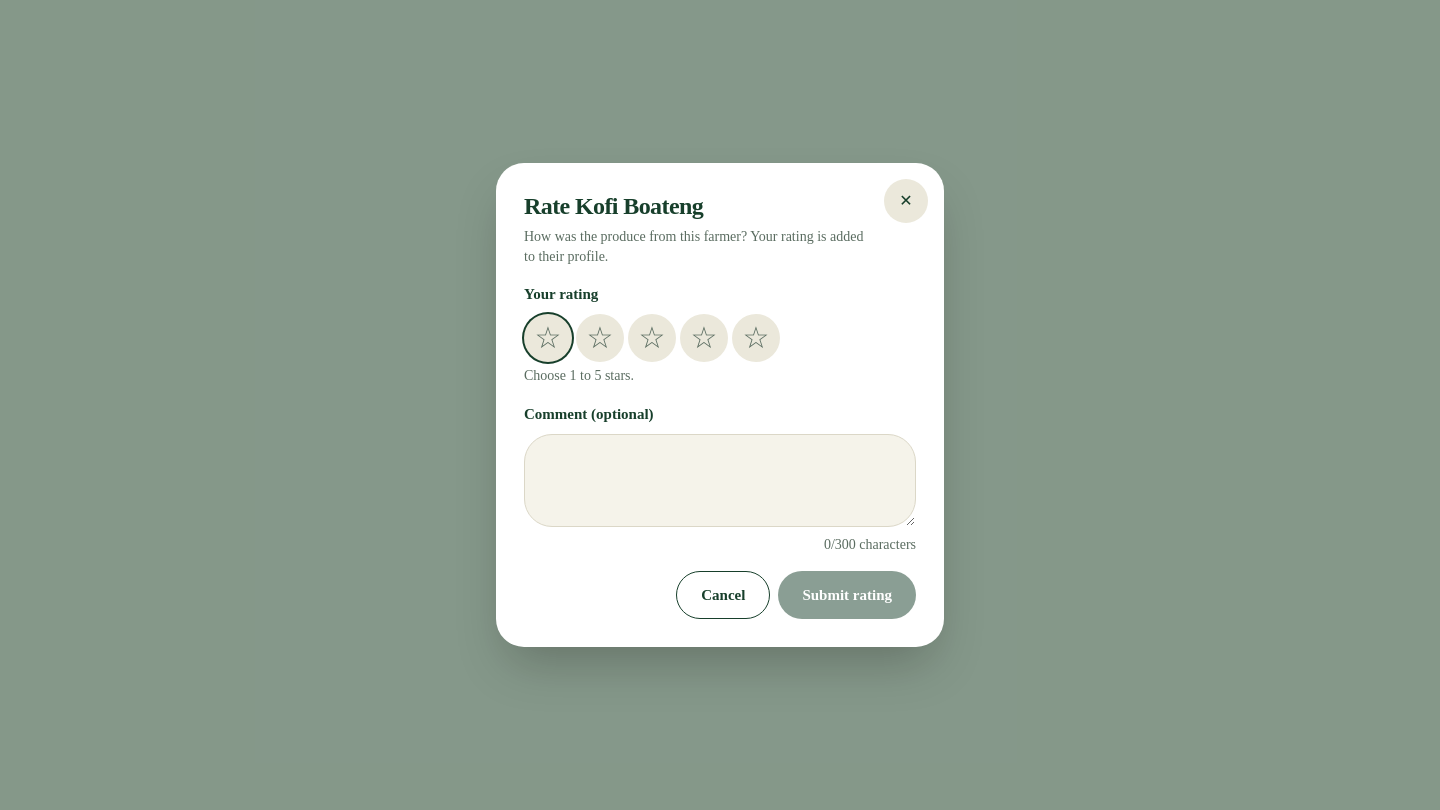
it: RateFarmerModal › keeps the dialog open with the message on other errors
Click the radio button named "3 stars": (652, 338) [628,314,676,362]
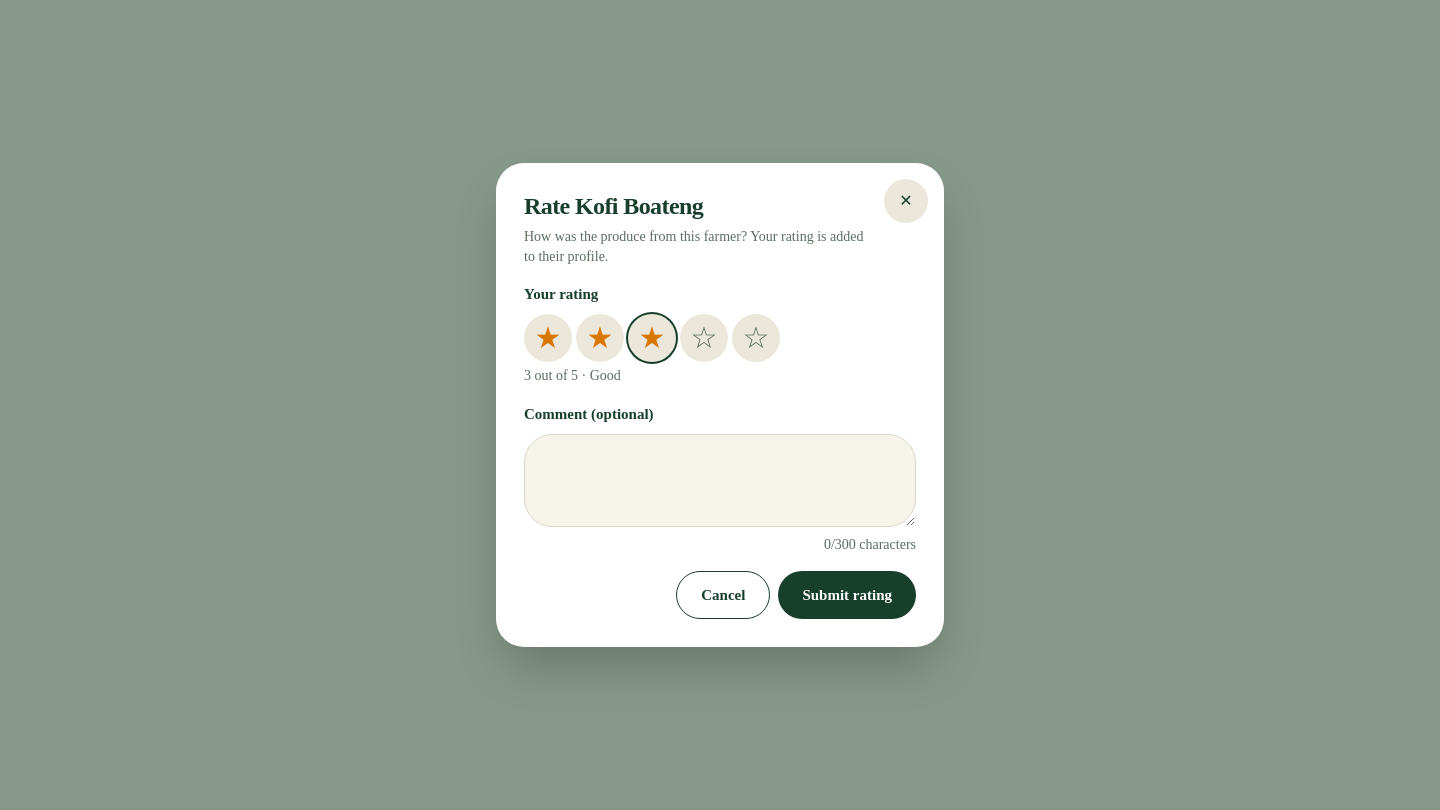
Click the button "Submit rating": (847, 595) [778,571,916,619]
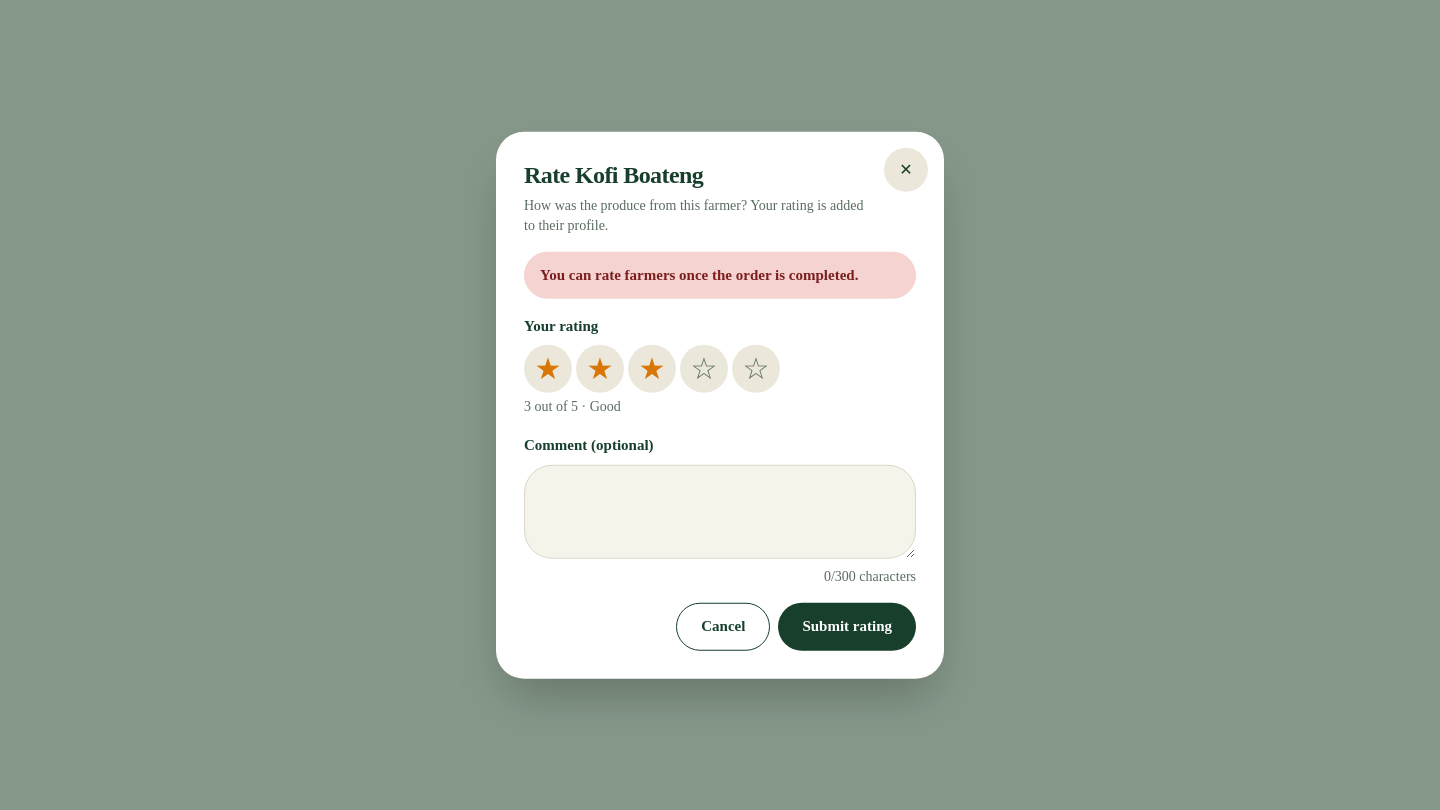
Now the message reads "You can rate farmers once the order is completed.", box [540,267,858,283]
